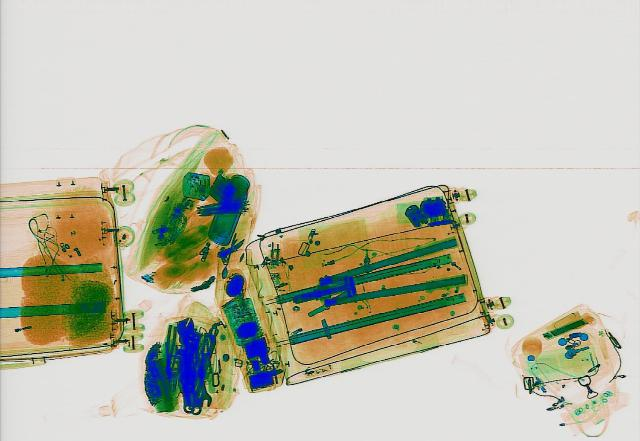Wrench: (174, 315, 198, 414)
